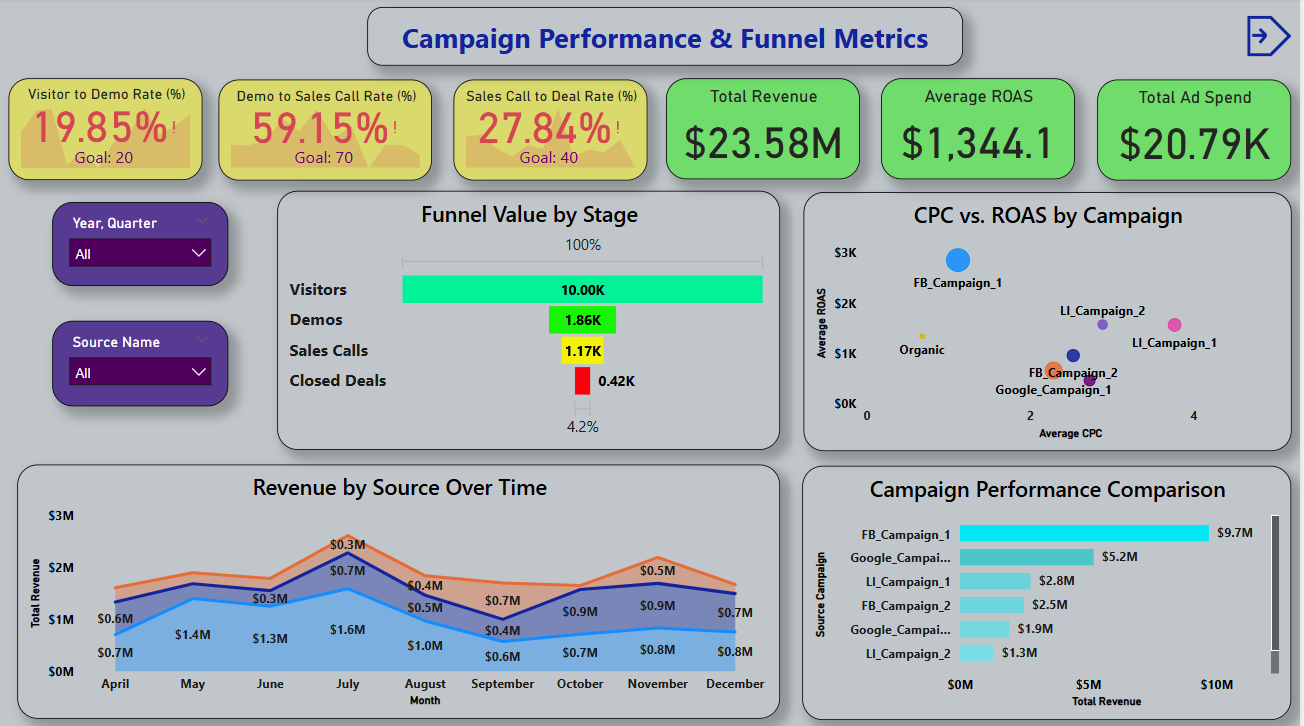

The dashboard page shown, as its layout file describes it:
{"tool":"powerbi","page":{"name":"Campaign Performance & Funnel Metrics","canvas":[1280,720],"ordinal":4},"visuals":[{"type":"kpi","title":"Visitor to Demo Rate (%)","fields":{"Indicator":["engagement_funnel.Visitor to Demo Rate"],"Goal":["engagement_funnel.Target Visitor to Demo Rate"],"TrendLine":["DateTable.Date.Variation.Date Hierarchy.Month"]},"box":[12.1,79.6,190.6,100.1],"z":0},{"type":"kpi","title":"Demo to Sales Call Rate (%)","fields":{"Indicator":["engagement_funnel.Demo to Sales Call Rate"],"Goal":["engagement_funnel.Target Demo to Sales Call Rate"],"TrendLine":["DateTable.Date.Variation.Date Hierarchy.Month"]},"box":[218.4,80.8,209.9,98.9],"z":1000},{"type":"kpi","title":"Sales Call to Deal Rate (%)","fields":{"Indicator":["engagement_funnel.Sales Call to Deal Rate"],"Goal":["engagement_funnel.Target Sales Call to Deal Rate"],"TrendLine":["DateTable.Date.Variation.Date Hierarchy.Month"]},"box":[448.8,80.8,190.6,98.9],"z":2000},{"type":"textbox","box":[364.3,9.7,585.1,57.9],"z":3000},{"type":"card","title":"Total Revenue","fields":{"Values":["engagement_funnel.Total Revenue"]},"box":[657.5,79.6,190.6,98.9],"z":4000},{"type":"card","title":"Total Ad Spend","fields":{"Values":["campaign_aggregates.Total Ad Spend"]},"box":[1081,80.8,190.6,98.9],"z":5000},{"type":"card","title":"Average ROAS","fields":{"Values":["campaign_aggregates.Average ROAS"]},"box":[868.6,79.6,190.6,98.9],"z":6000},{"type":"funnel","fields":{"Category":["Funnel Stages.Stage"],"Y":["Funnel Stages.Funnel Value"]},"box":[276.3,190.6,493.4,254.6],"z":7000},{"type":"barChart","title":"Campaign Performance Comparison","fields":{"Category":["campaign_aggregates.Source_Campaign"],"Y":["engagement_funnel.Total Revenue"]},"box":[791.4,459.7,480.2,249.7],"z":8000},{"type":"stackedAreaChart","title":"Revenue by Source Over Time","fields":{"Category":["DateTable.Date.Variation.Date Hierarchy.Year","DateTable.Date.Variation.Date Hierarchy.Month"],"Series":["source_lookup.Source_Name"],"Y":["engagement_funnel.Total Revenue"]},"box":[20.5,458.4,749.2,249.7],"z":9000},{"type":"scatterChart","title":"CPC vs. ROAS by Campaign","fields":{"Y":["campaign_aggregates.Average ROAS"],"Series":["campaign_aggregates.Source_Campaign"],"Size":["Sum(campaign_aggregates.Revenue)"],"X":["campaign_aggregates.Average CPC"]},"box":[792.6,191.8,479,254.6],"z":10000},{"type":"slicer","fields":{"Values":["DateTable.Date.Variation.Date Hierarchy.Year","DateTable.Date.Variation.Date Hierarchy.Quarter"]},"box":[54.9,201.7,172.9,82.3],"z":11000},{"type":"slicer","fields":{"Values":["campaign_aggregates.Source_Name"]},"box":[54.9,318.4,172.9,83.7],"z":12000},{"type":"actionButton","box":[1228.2,18.1,43.4,39.8],"z":13000}]}

Visuals, with their boxes in screenshot pixels (x1, y1, x2, y2), scaled from the page's 1280x720 canvas onto the 1304x726 screenshot:
"Visitor to Demo Rate (%)" kpi: x1=12, y1=80, x2=207, y2=181
"Demo to Sales Call Rate (%)" kpi: x1=222, y1=81, x2=436, y2=181
"Sales Call to Deal Rate (%)" kpi: x1=457, y1=81, x2=651, y2=181
textbox: x1=371, y1=10, x2=967, y2=68
"Total Revenue" card: x1=670, y1=80, x2=864, y2=180
"Total Ad Spend" card: x1=1101, y1=81, x2=1295, y2=181
"Average ROAS" card: x1=885, y1=80, x2=1079, y2=180
funnel - Funnel Stages.Stage x Funnel Stages.Funnel Value: x1=281, y1=192, x2=784, y2=449
"Campaign Performance Comparison" barChart: x1=806, y1=464, x2=1295, y2=715
"Revenue by Source Over Time" stackedAreaChart: x1=21, y1=462, x2=784, y2=714
"CPC vs. ROAS by Campaign" scatterChart: x1=807, y1=193, x2=1295, y2=450
slicer - DateTable.Date.Variation.Date Hierarchy.Year x DateTable.Date.Variation.Date Hierarchy.Quarter: x1=56, y1=203, x2=232, y2=286
slicer - campaign_aggregates.Source_Name: x1=56, y1=321, x2=232, y2=405
actionButton: x1=1251, y1=18, x2=1295, y2=58
